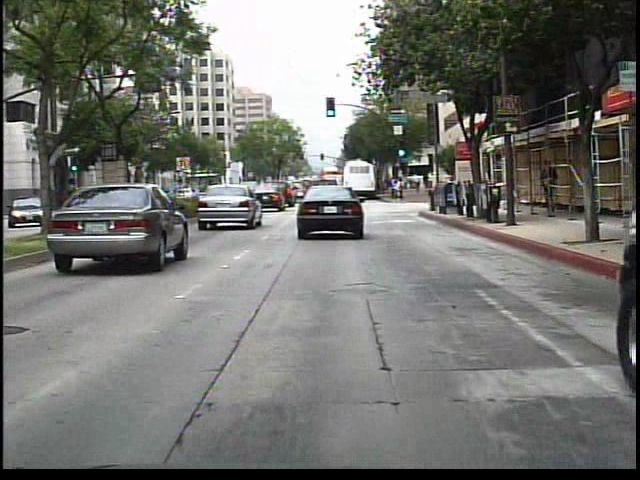person: (535, 157, 560, 220)
